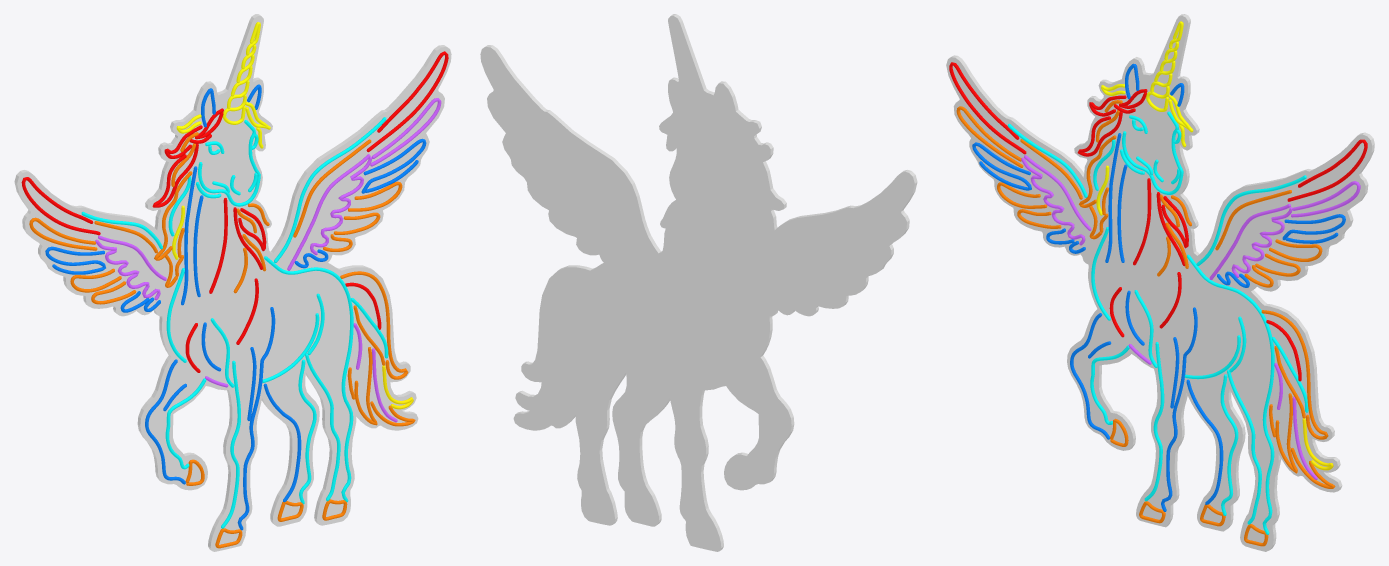
File: ユニコーン.glb
3 renders of one model, left to right at view 1: azimuth 30°, elevation 25°; view 2: azimuth 150°, elevation 25°; view 3: azimuth 330°, elevation 25°, orthographic.
Size of the model in its own units: 648 by 750 by 11.4.
